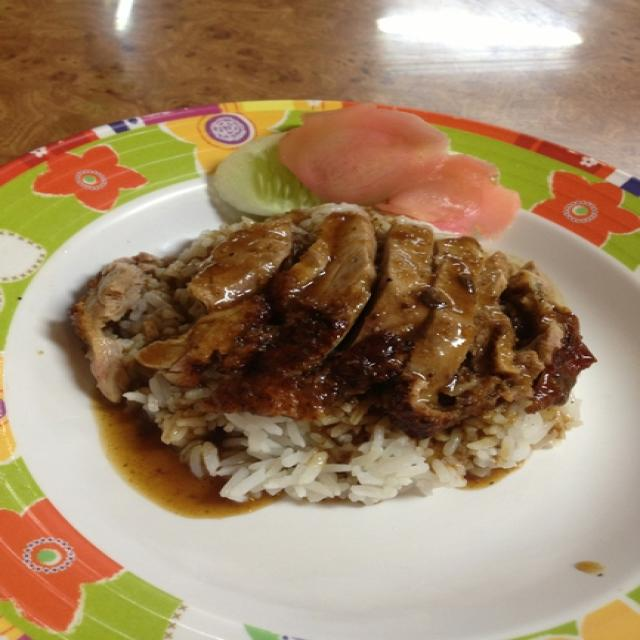米饭主食: (18, 63, 592, 589)
